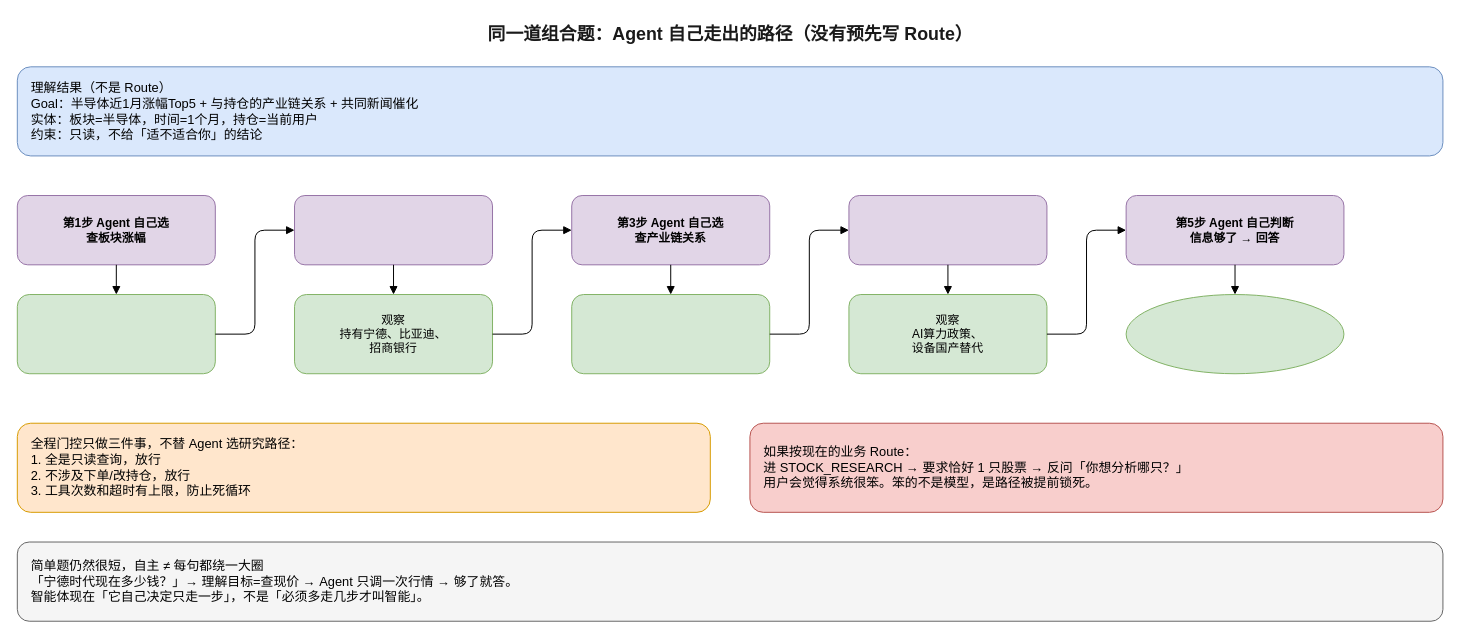
This 1460x639 diagram has some shape labels left out. Each missing label, with the centre of its shape:
"回答覆盖三件事 Top5 / 产业链 / 催化" belongs at point 1234,334.
"第2步 Agent 自己选 拉用户持仓" belongs at point 393,230.
"第4步 Agent 自己选 搜共同新闻" belongs at point 947,230.
"观察 中芯 / 北方华创 / 海光 / 宁德 / 中微" belongs at point 115,334.
"观察 宁德在榜且在持仓； 中芯与持仓无直接链" belongs at point 670,334.
